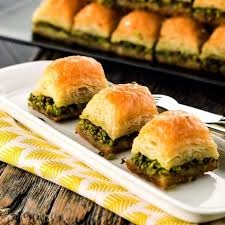baklava: (125, 111, 218, 188), (76, 83, 157, 158), (28, 56, 109, 120), (110, 10, 159, 60), (155, 16, 201, 67), (72, 3, 116, 48), (32, 0, 80, 40), (200, 23, 224, 62), (192, 0, 224, 22)
